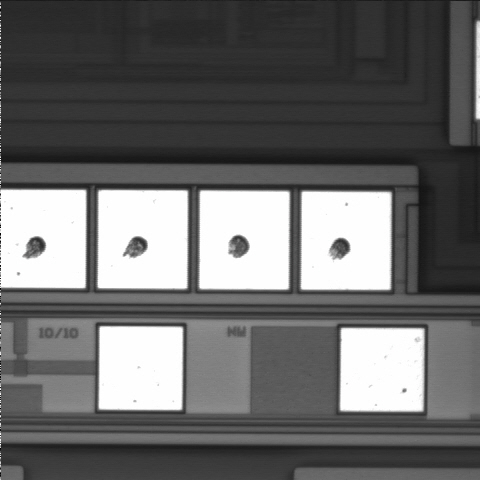pad: (98, 190, 188, 289), (199, 191, 289, 289), (301, 192, 391, 290), (99, 327, 183, 410), (340, 328, 424, 411)
